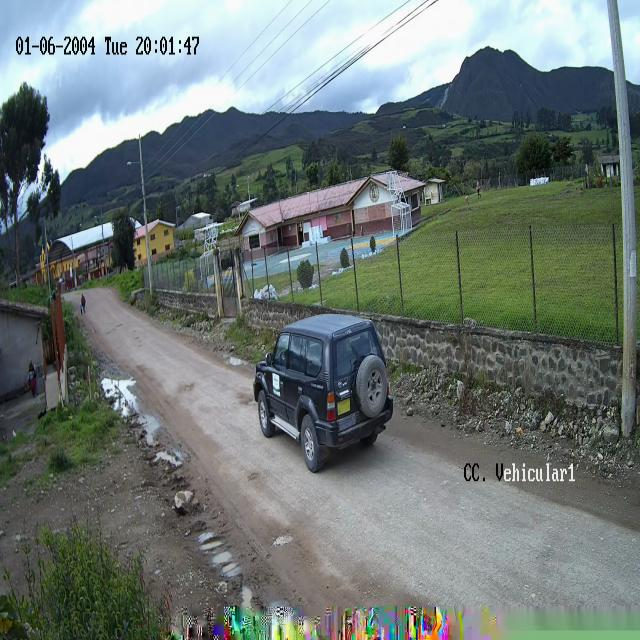SUV: (253, 314, 394, 474)
